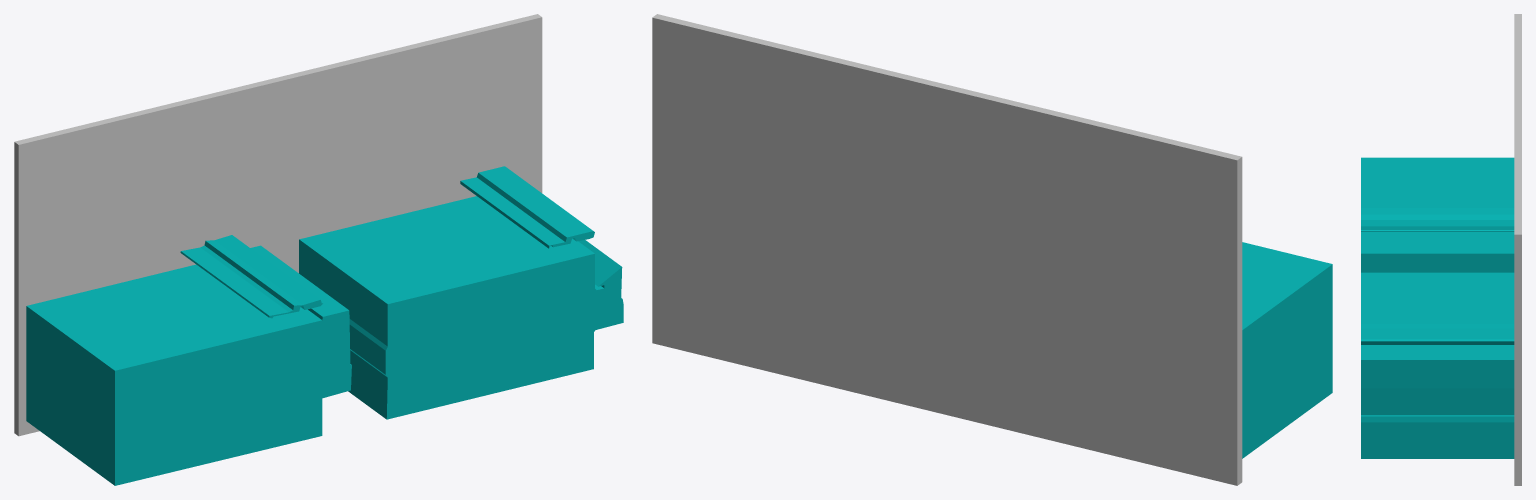
The picture shows the model from 3 angles, left to right: view 1: azimuth 30°, elevation 25°; view 2: azimuth 150°, elevation 25°; view 3: azimuth 270°, elevation 25°; orthographic projection. The views are drawn at different scales.
Visible parts, largest first — view 1: world; view 2: world; view 3: world.
Boxes of the visible parts, bbox=[...] form: world: bbox=[14, 14, 623, 485]; world: bbox=[652, 14, 1332, 485]; world: bbox=[1361, 14, 1521, 485].
Bounding box in the file's own units: 10.23 × 5.44 × 3.15.
